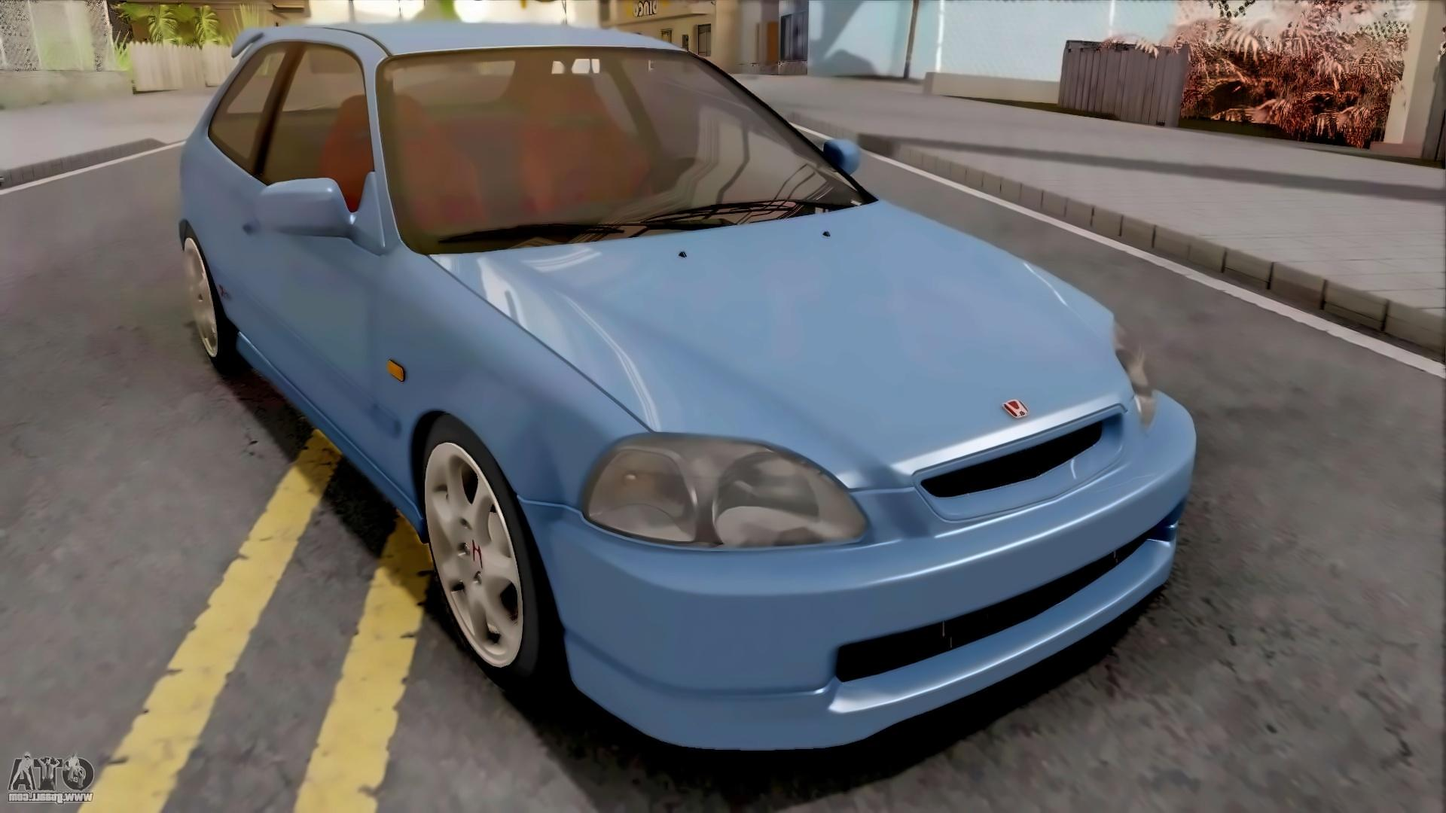Car hood: (422, 197, 1132, 491)
Driver-s door - -F-R-: (217, 18, 390, 480)
Fender - -F-R-: (357, 242, 641, 628)
Fender - -R-R-: (174, 115, 234, 305)
Front bumper: (519, 383, 1210, 756)
Headlight - -L-: (1106, 306, 1157, 432)
Headlight - -R-: (576, 433, 877, 551)
Side bumper - -R-: (217, 294, 420, 557)
Side mirror - -L-: (819, 130, 867, 181)
Side mirror - -R-: (252, 176, 394, 257)
